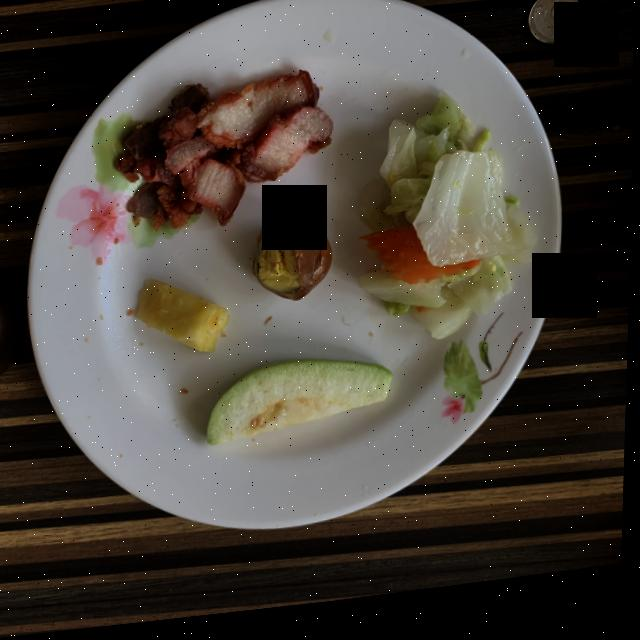cabbage: (359, 103, 537, 349)
coin: (528, 3, 580, 57)
guava -sliced-: (208, 366, 394, 451)
pineapple: (135, 283, 230, 358)
red grilled pork: (115, 77, 332, 233)
soy egg: (253, 225, 333, 307)
